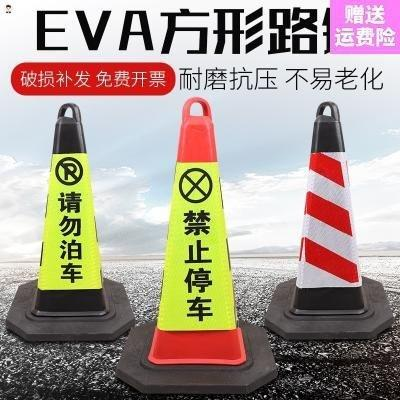cone_barrel: (138, 108, 256, 378), (275, 103, 379, 328), (21, 106, 120, 328)
